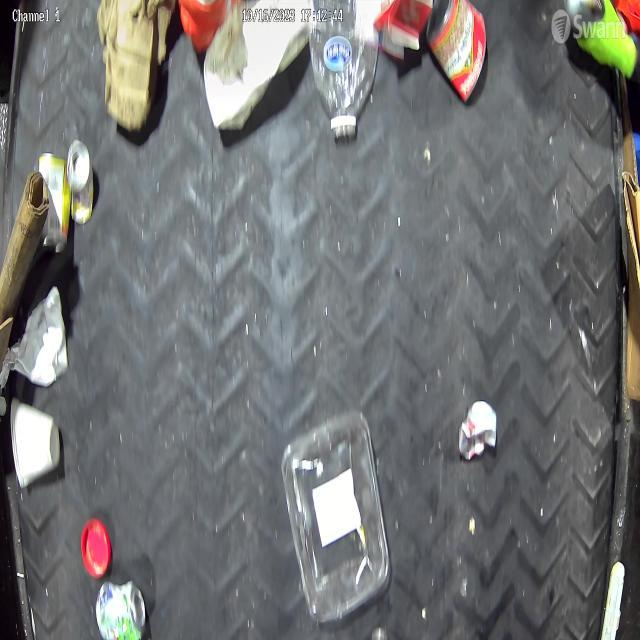can: (426, 2, 490, 102), (87, 578, 154, 640)
plastic_bottle: (305, 0, 387, 137)
